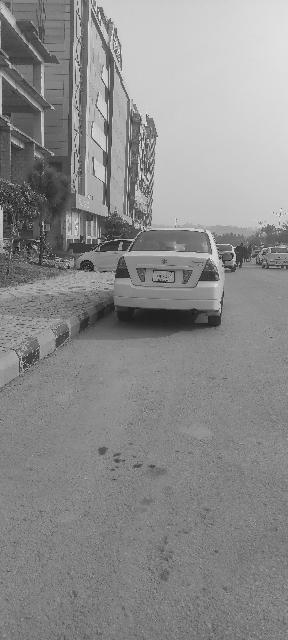Number: (156, 274, 172, 280)
